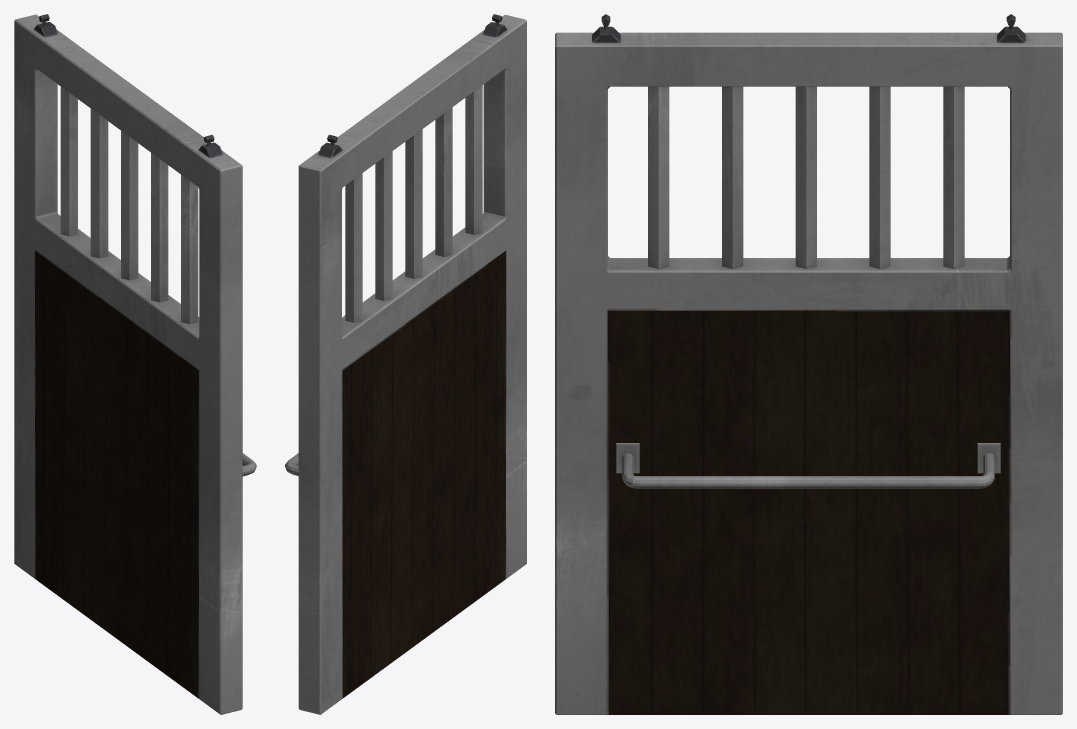
The model's file is StableBox_Door_LP.glb.
3 views of the same model, side by side, from view 1: azimuth 30°, elevation 25°; view 2: azimuth 150°, elevation 25°; view 3: azimuth 270°, elevation 25° (orthographic). The views are drawn at different scales.
Parts seen in each view (by area): view 1: StableBox_Door_LP; view 2: StableBox_Door_LP; view 3: StableBox_Door_LP.
Part boxes in pixels (x1,y1,x2,y2): StableBox_Door_LP: [14, 14, 256, 714]; StableBox_Door_LP: [285, 14, 526, 714]; StableBox_Door_LP: [555, 14, 1062, 714].
Size of the model in its own units: 0.4622 by 3.62 by 2.41.
Materials: 2 (2 with a texture image).
